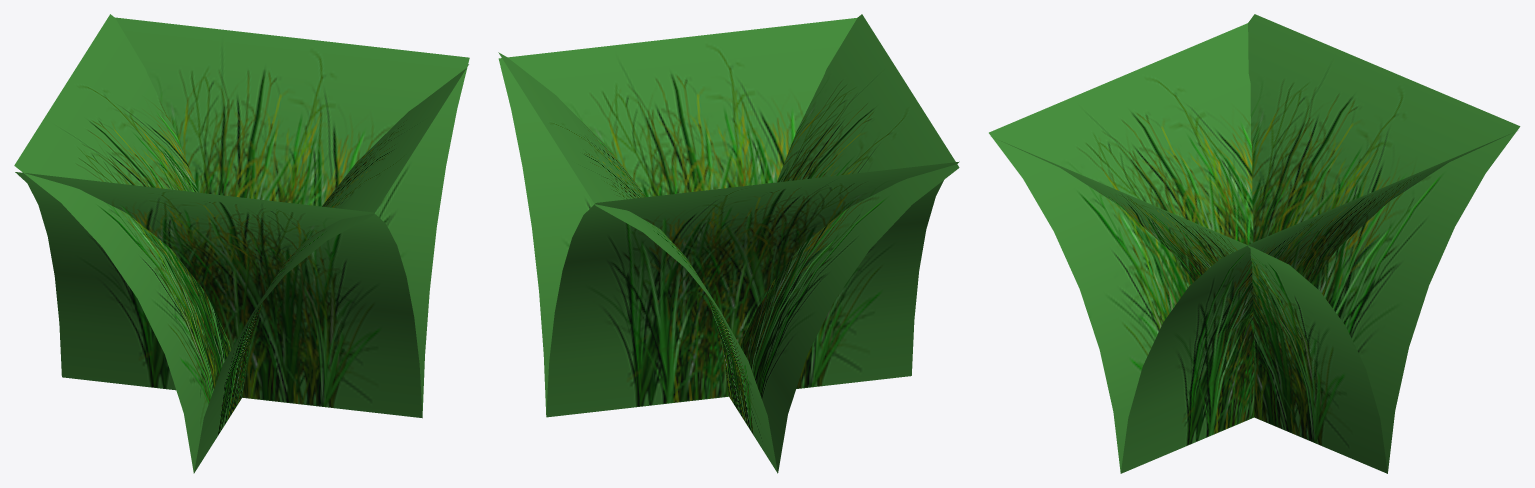
File: sb_obj_nature002_Grass01a.fbx
3 views of the same model, side by side, from view 1: azimuth 30°, elevation 25°; view 2: azimuth 150°, elevation 25°; view 3: azimuth 270°, elevation 25° (orthographic).
Visible parts, largest first — view 1: sb_obj_nature002_Grass01a; view 2: sb_obj_nature002_Grass01a; view 3: sb_obj_nature002_Grass01a.
Boxes of the visible parts, x1,y1,x2,y2 form: sb_obj_nature002_Grass01a: (14,14,469,473); sb_obj_nature002_Grass01a: (498,14,959,473); sb_obj_nature002_Grass01a: (989,14,1520,473).
Bounding box in the file's own units: 2.83 × 1.71 × 2.83.
